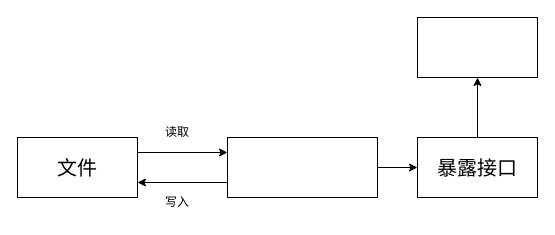
The diagram is 555 pixels wide and 235 high, and some of its shapes have lost their labels. Here are the shapes that lost their labels. From the top down, the box of each, then its label:
(416, 16, 538, 78): 指令调用
(226, 136, 378, 198): 文件存储模块
